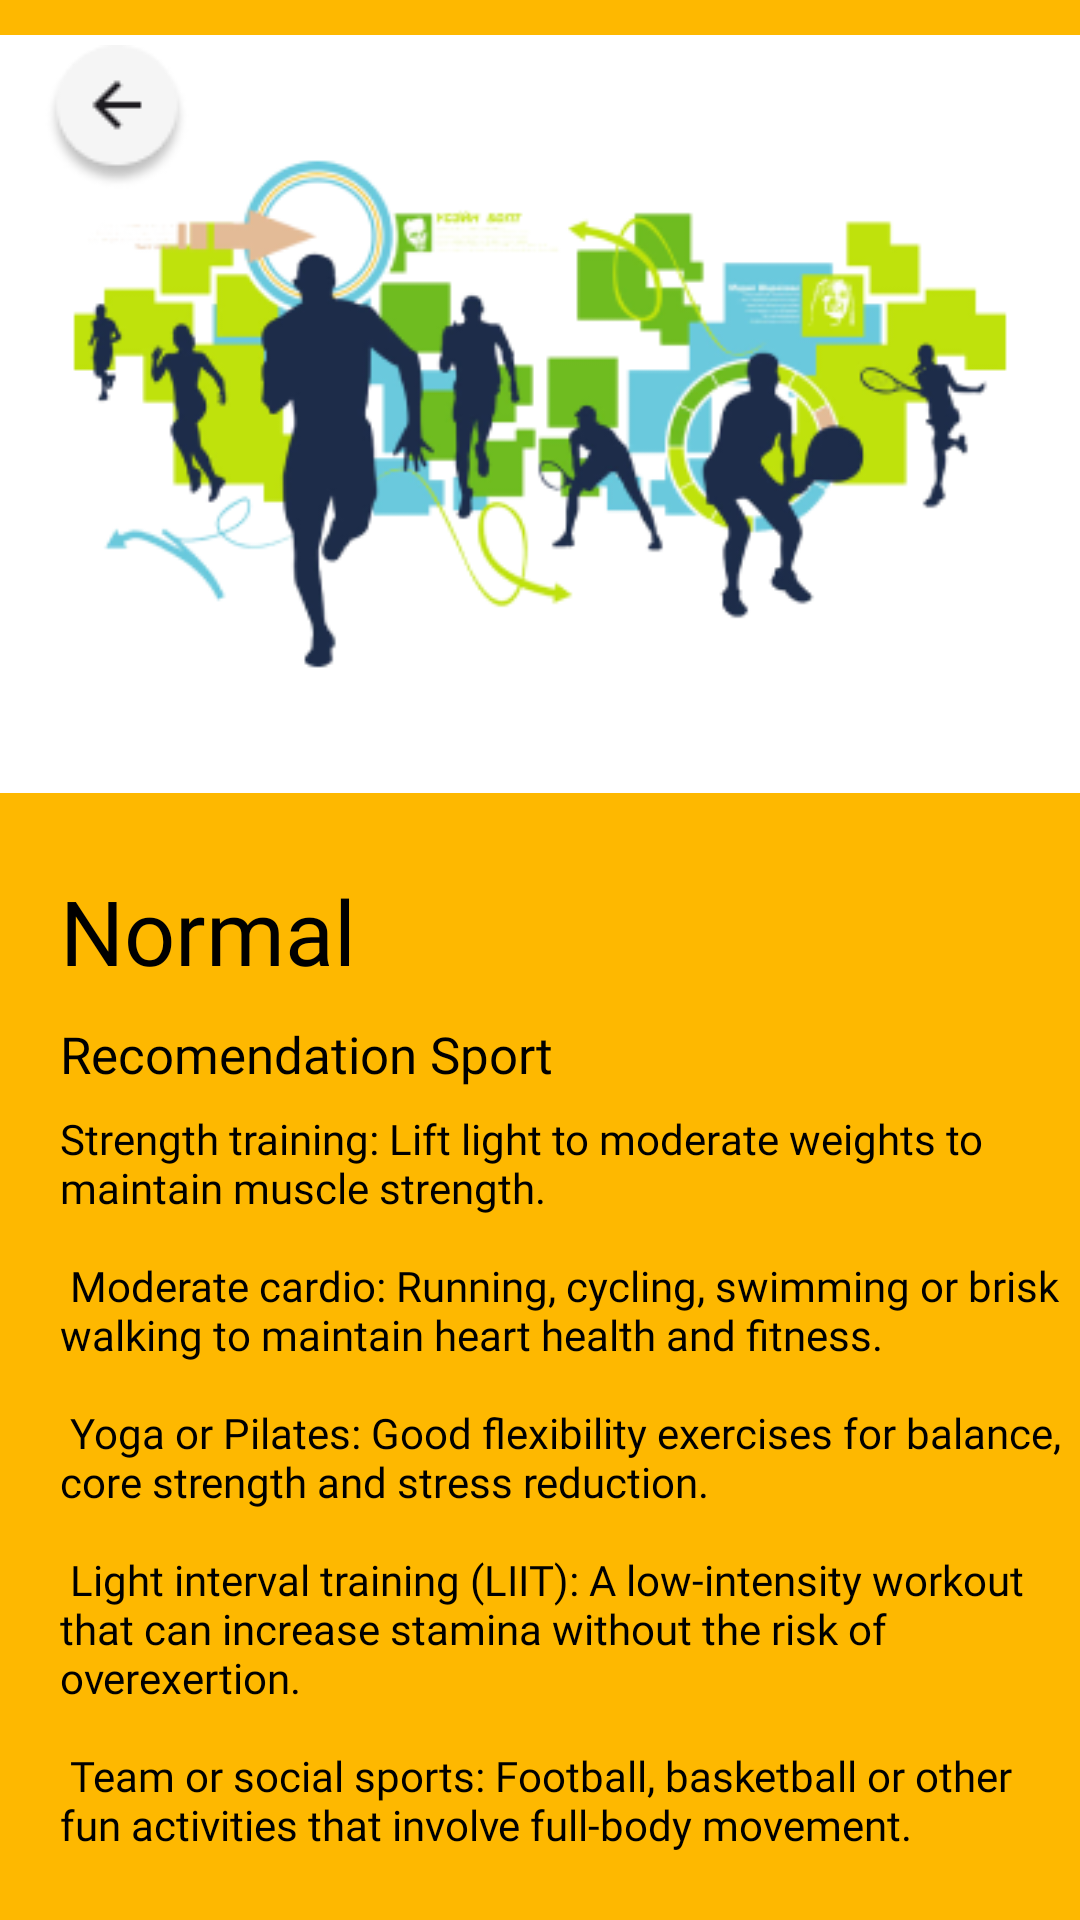

Where to tap for icons on this 1080px×1920px app screen, as [x,y]:
back: [117,114]
